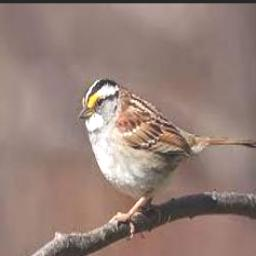Sparrow: (78, 78, 256, 240)
